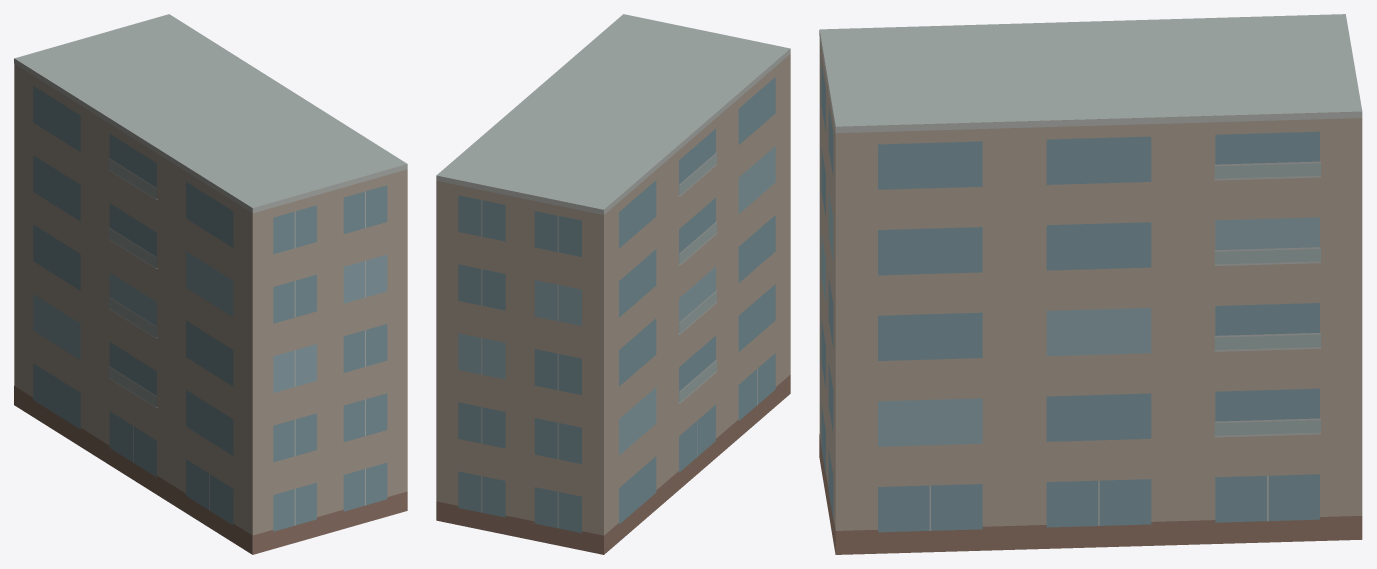
Rendered from survey-upis-32723108.glb.
3 renders of one model, left to right at view 1: azimuth 30°, elevation 25°; view 2: azimuth 150°, elevation 25°; view 3: azimuth 270°, elevation 25°, orthographic. The views are drawn at different scales.
Parts seen in each view (by area): view 1: survey-upis-32723108.tmp; view 2: survey-upis-32723108.tmp; view 3: survey-upis-32723108.tmp.
Boxes of the visible parts, bbox=[...] form: survey-upis-32723108.tmp: bbox=[14, 14, 407, 554]; survey-upis-32723108.tmp: bbox=[436, 14, 790, 554]; survey-upis-32723108.tmp: bbox=[819, 14, 1362, 554].
Size of the model in its own units: 9.04 by 16 by 18.39.
